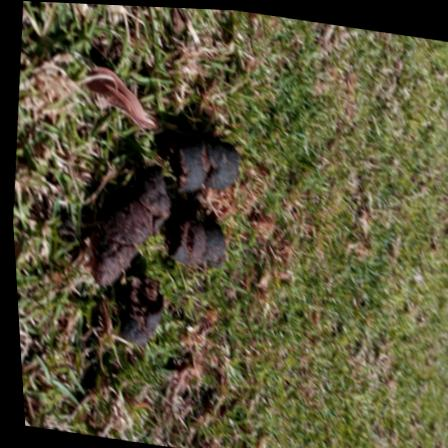dog-poop: (71, 121, 255, 358)
